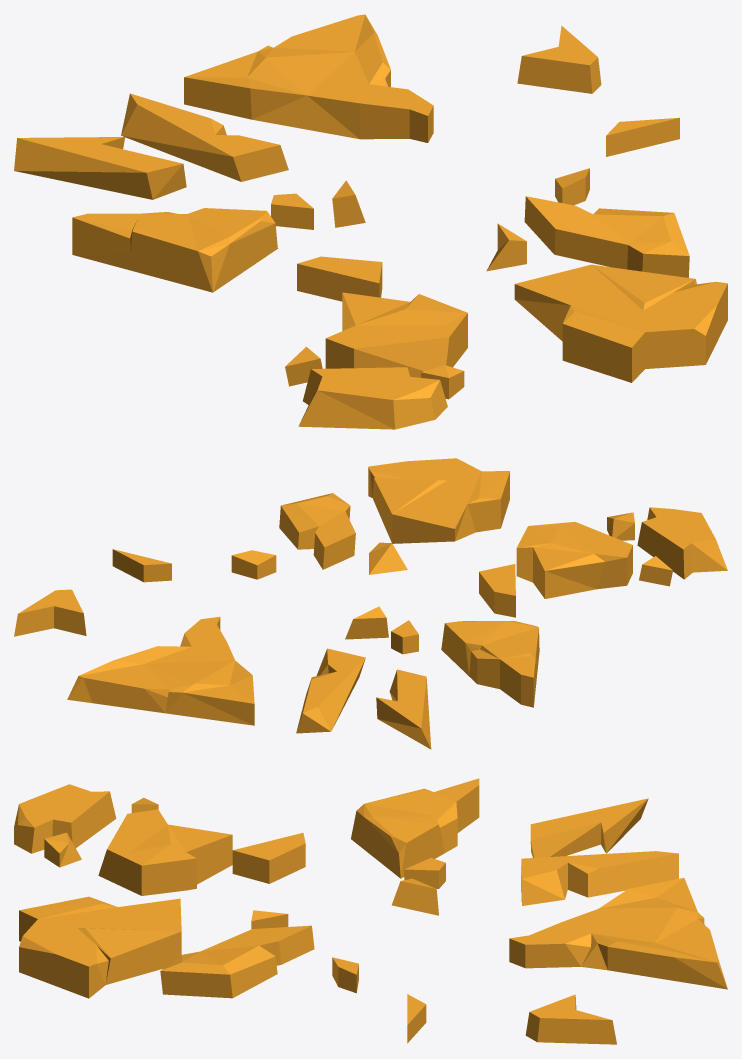
The model's file is SM_Iceberg_Shards_Central_A.fbx.
3 views of the same model, one above another, from view 1: azimuth 30°, elevation 25°; view 2: azimuth 150°, elevation 25°; view 3: azimuth 270°, elevation 25° (orthographic). The views are drawn at different scales.
Parts seen in each view (by area): view 1: iceberg-shards-central-a; view 2: iceberg-shards-central-a; view 3: iceberg-shards-central-a.
Part boxes in pixels (bbox=[...]): iceberg-shards-central-a: bbox=[14, 14, 727, 429]; iceberg-shards-central-a: bbox=[14, 458, 727, 749]; iceberg-shards-central-a: bbox=[14, 778, 727, 1044].
Bounding box in the file's own units: 5.42 × 0.4606 × 6.7.
